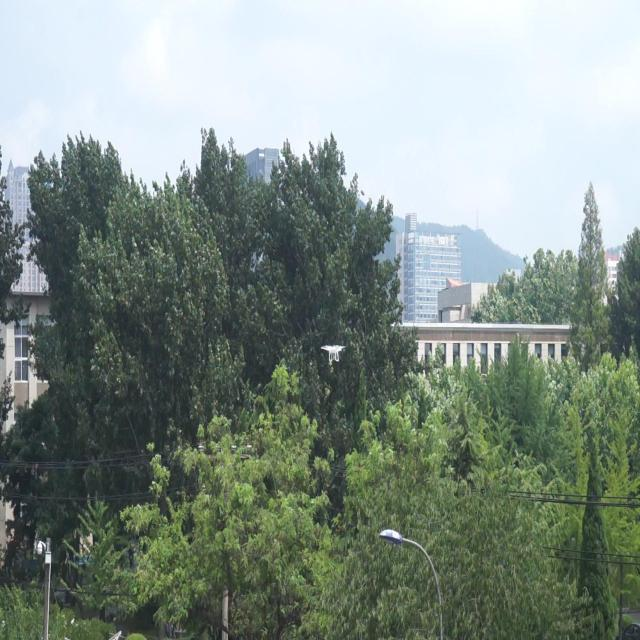drone: (322, 340, 345, 366)
